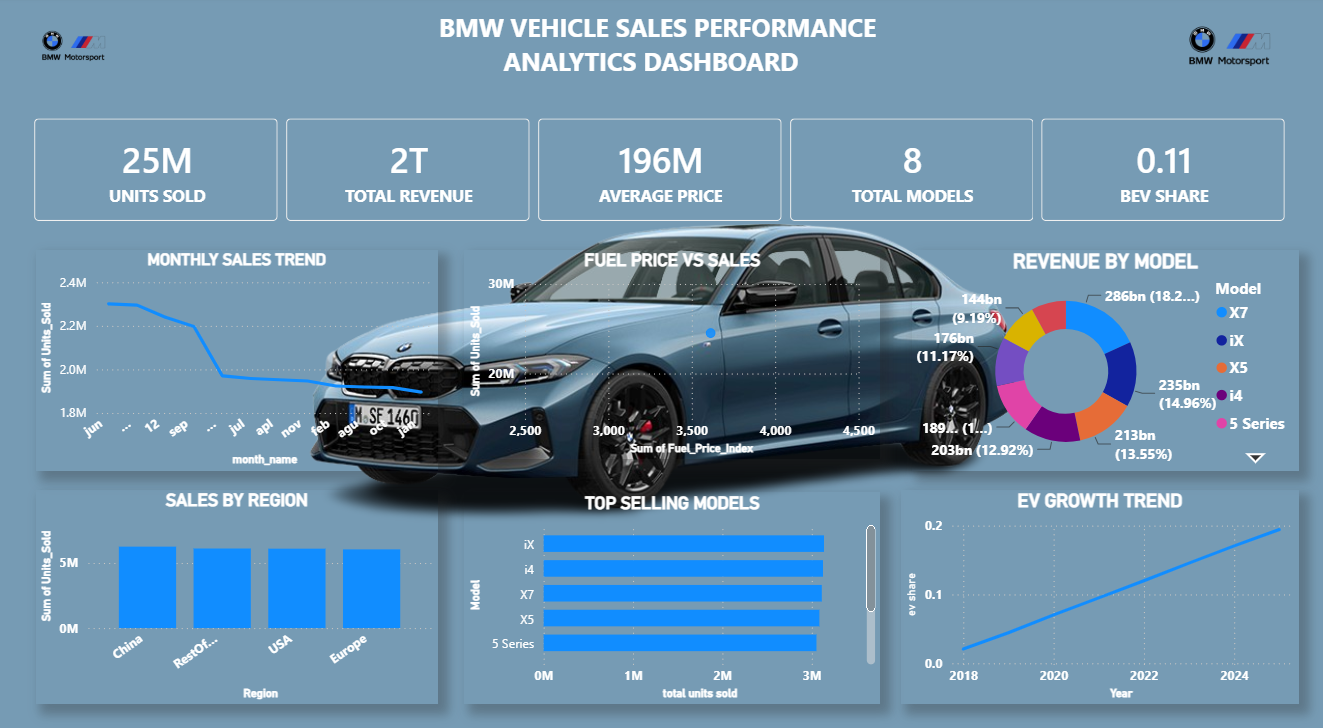

This screenshot's page, from the dashboard's own definition file:
{"tool":"powerbi","page":{"name":"Page 1","canvas":[1280,720],"ordinal":0},"visuals":[{"type":"lineChart","title":"MONTHLY SALES TREND","fields":{"Category":["bmw_global_sales_2018_2025.month_name"],"Y":["Sum(bmw_global_sales_2018_2025.Units_Sold)"]},"box":[36.2,244.9,388.5,213.5],"z":0},{"type":"clusteredColumnChart","title":"SALES BY REGION","fields":{"Category":["bmw_global_sales_2018_2025.Region"],"Y":["Sum(bmw_global_sales_2018_2025.Units_Sold)"]},"box":[36.2,476.5,388.5,207.5],"z":1000},{"type":"barChart","title":"TOP SELLING MODELS","fields":{"Category":["bmw_global_sales_2018_2025.Model"],"Y":["bmw_global_sales_2018_2025.total units sold"]},"box":[450,479,401.7,205.1],"z":2000},{"type":"donutChart","title":" REVENUE BY MODEL","fields":{"Category":["bmw_global_sales_2018_2025.Model"],"Y":["bmw_global_sales_2018_2025.total revenue"]},"box":[881.9,244.9,374,213.5],"z":3000},{"type":"lineChart","title":"EV GROWTH TREND","fields":{"Category":["bmw_global_sales_2018_2025.Year"],"Y":["bmw_global_sales_2018_2025.ev share"]},"box":[871.1,476.5,384.9,207.5],"z":4000},{"type":"scatterChart","title":"FUEL PRICE VS SALES","fields":{"X":["Sum(bmw_global_sales_2018_2025.Fuel_Price_Index)"],"Y":["Sum(bmw_global_sales_2018_2025.Units_Sold)"]},"box":[450,244.9,401.7,202.7],"z":5000},{"type":"cardVisual","fields":{"Data":["Sum(bmw_global_sales_2018_2025.Units_Sold)","bmw_global_sales_2018_2025.total revenue","Sum(bmw_global_sales_2018_2025.Avg_Price_EUR)","bmw_global_sales_2018_2025.total models","Avg(bmw_global_sales_2018_2025.BEV_Share)"]},"box":[18.1,101.3,1242.6,133.9],"z":6000},{"type":"image","box":[1097.9,0,182.2,101.3],"z":7000},{"type":"image","box":[0,0,174.9,100.1],"z":8000},{"type":"textbox","box":[369.2,9.7,528.4,90.5],"z":9000}]}

Visuals, with their boxes in screenshot pixels (x1, y1, x2, y2), scaled from the page's 1280x720 canvas onto the 1323x728 screenshot:
"MONTHLY SALES TREND" lineChart: bbox=[37, 248, 439, 463]
"SALES BY REGION" clusteredColumnChart: bbox=[37, 482, 439, 692]
"TOP SELLING MODELS" barChart: bbox=[465, 484, 880, 692]
" REVENUE BY MODEL" donutChart: bbox=[912, 248, 1298, 463]
"EV GROWTH TREND" lineChart: bbox=[900, 482, 1298, 692]
"FUEL PRICE VS SALES" scatterChart: bbox=[465, 248, 880, 453]
cardVisual - Sum(bmw_global_sales_2018_2025.Units_Sold) x bmw_global_sales_2018_2025.total revenue: bbox=[19, 102, 1303, 238]
image: bbox=[1135, 0, 1322, 102]
image: bbox=[0, 0, 181, 101]
textbox: bbox=[382, 10, 928, 101]
